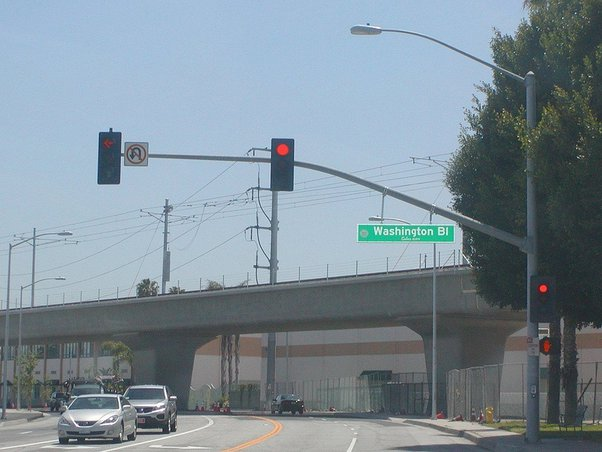traffic light: (272, 138, 296, 190), (98, 132, 121, 186)
